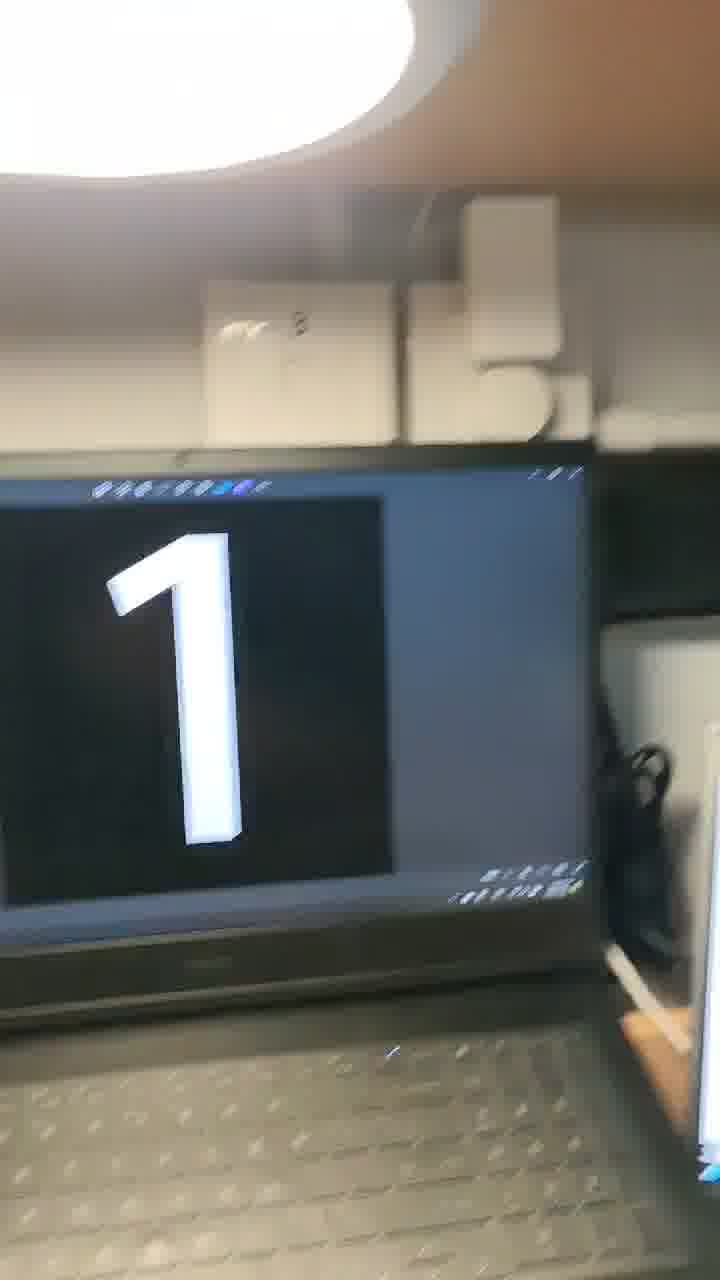one: (63, 457, 402, 910)
